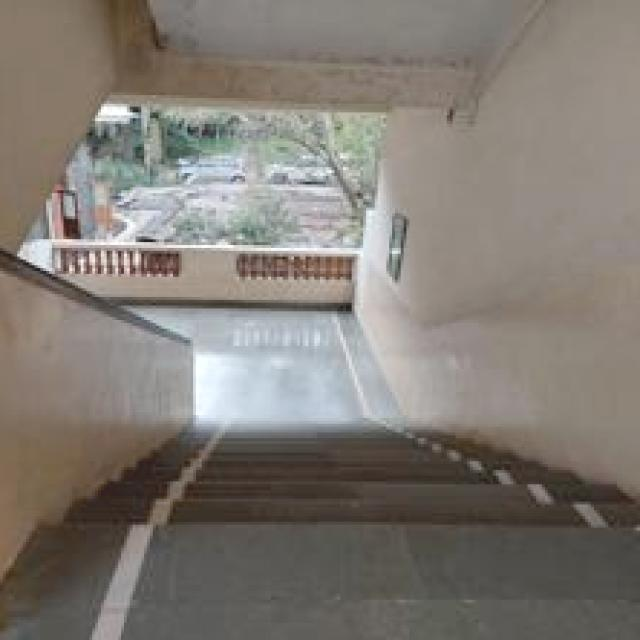downstair: (145, 402, 529, 566)
